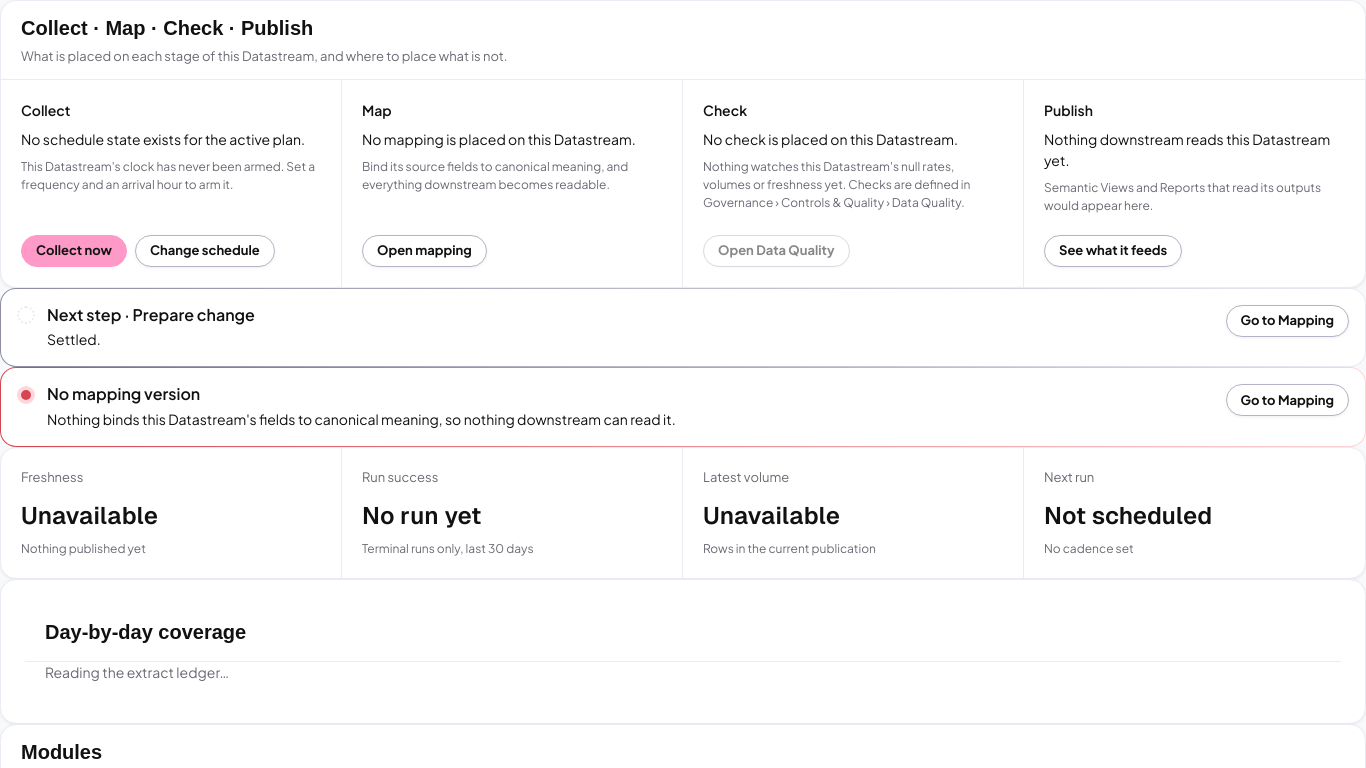
it: Collect now › a window already in flight is not reported as a second spend
Click the button with test id "stage-collect-now" at (74, 250), box 21,234 -> 127,266
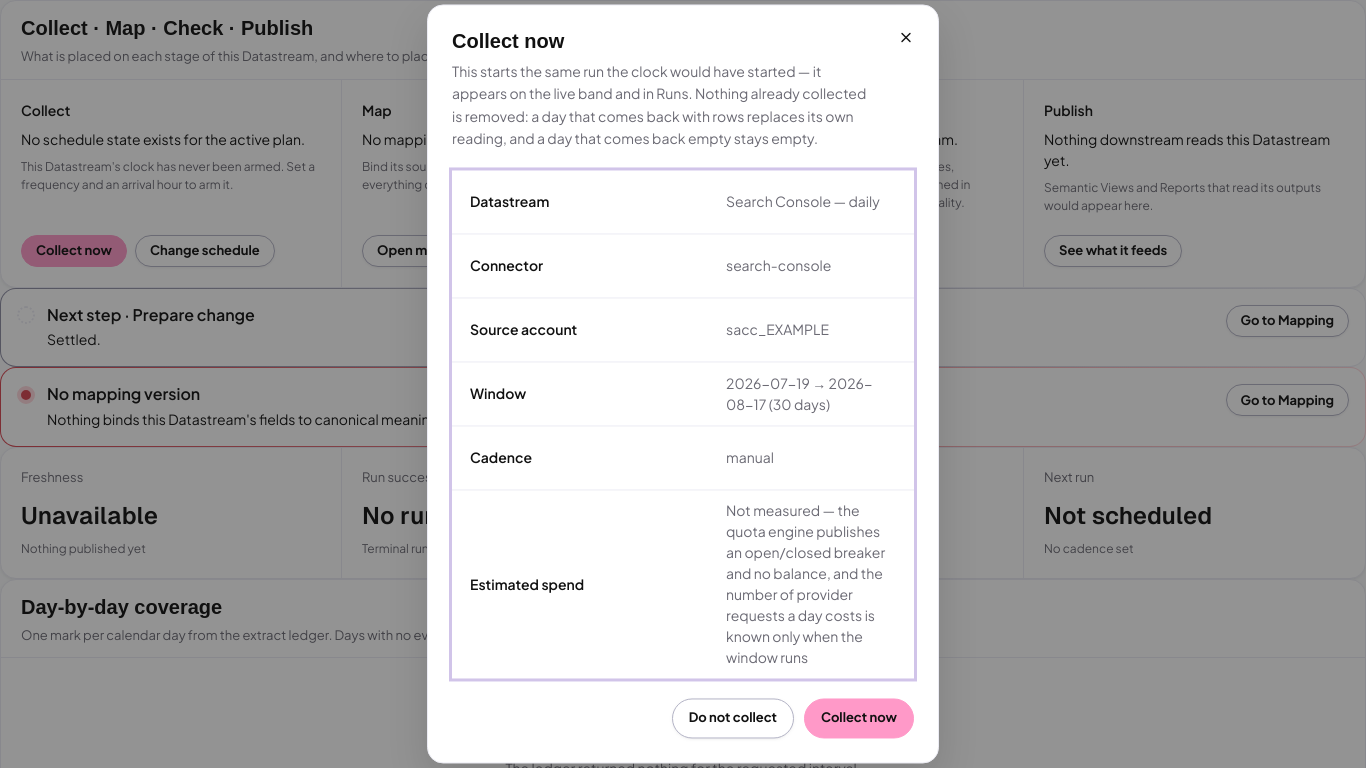
Now the dialog with test id "collect-now-confirm" is shown, box 427,4 -> 939,764
Click the button with test id "collect-now-go" at (859, 718), box 804,698 -> 914,738
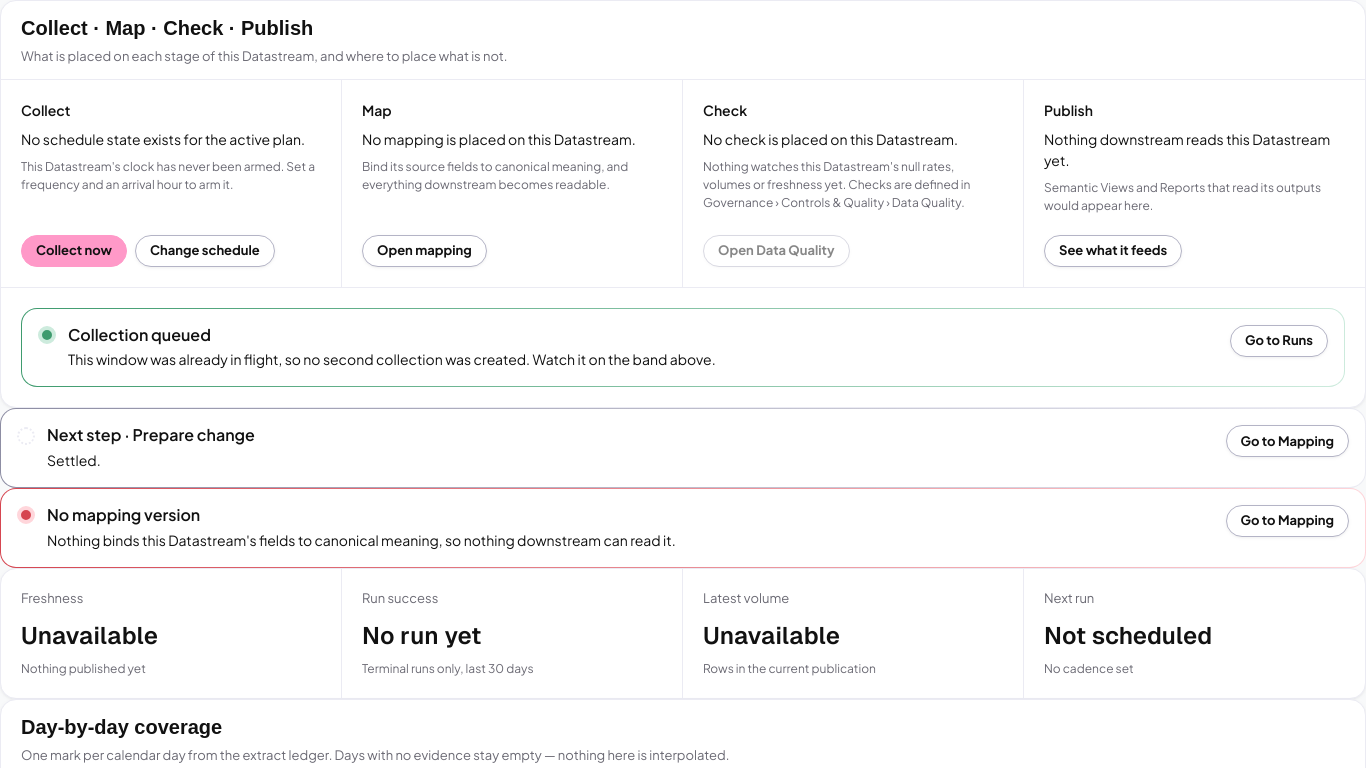
Now the text "already in flight, so no second collection" is shown, box 68,350 -> 716,368
